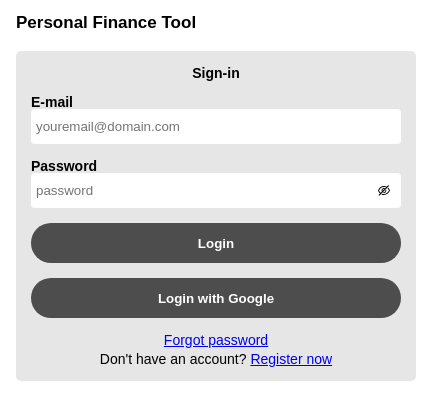
Test case: Login › Login with Email and Password Form › should show an alert for email input empty
Step 1. Type "password123" into the password field with placeholder "Password" → point(216, 190), box x1=31 y1=173 x2=401 y2=208
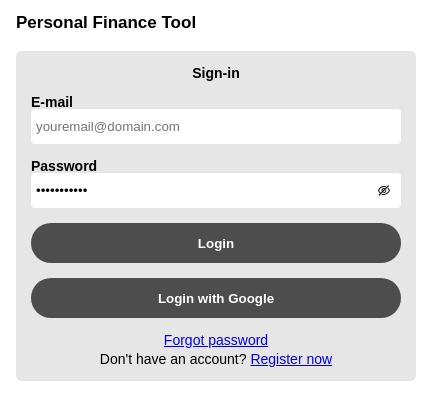
Step 2. Click the button "Login" → point(216, 243), box x1=31 y1=223 x2=401 y2=263
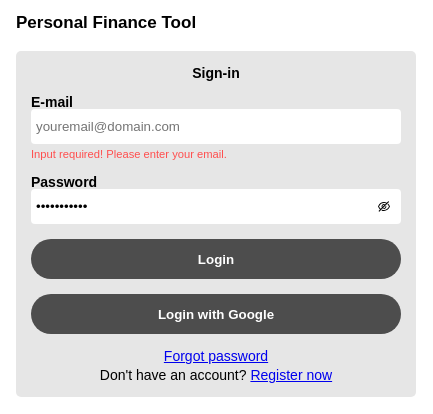
Expected: the message reads "Input required! Please enter your email.", x1=31 y1=148 x2=227 y2=160
